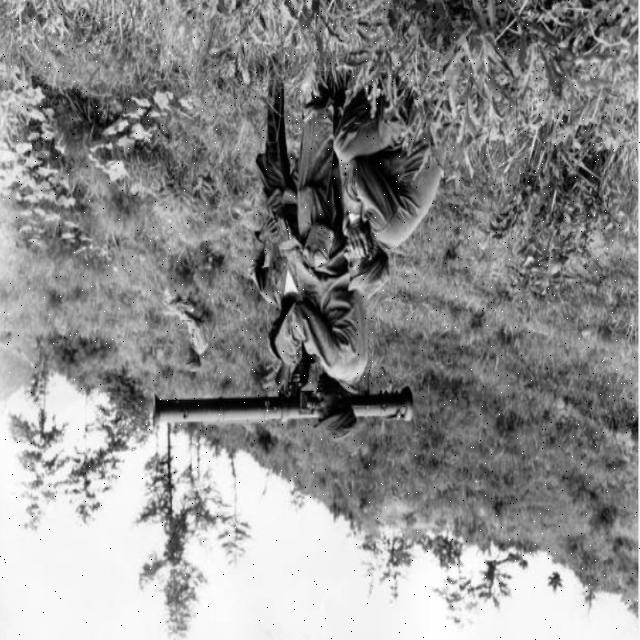bazooka: (152, 385, 416, 430)
